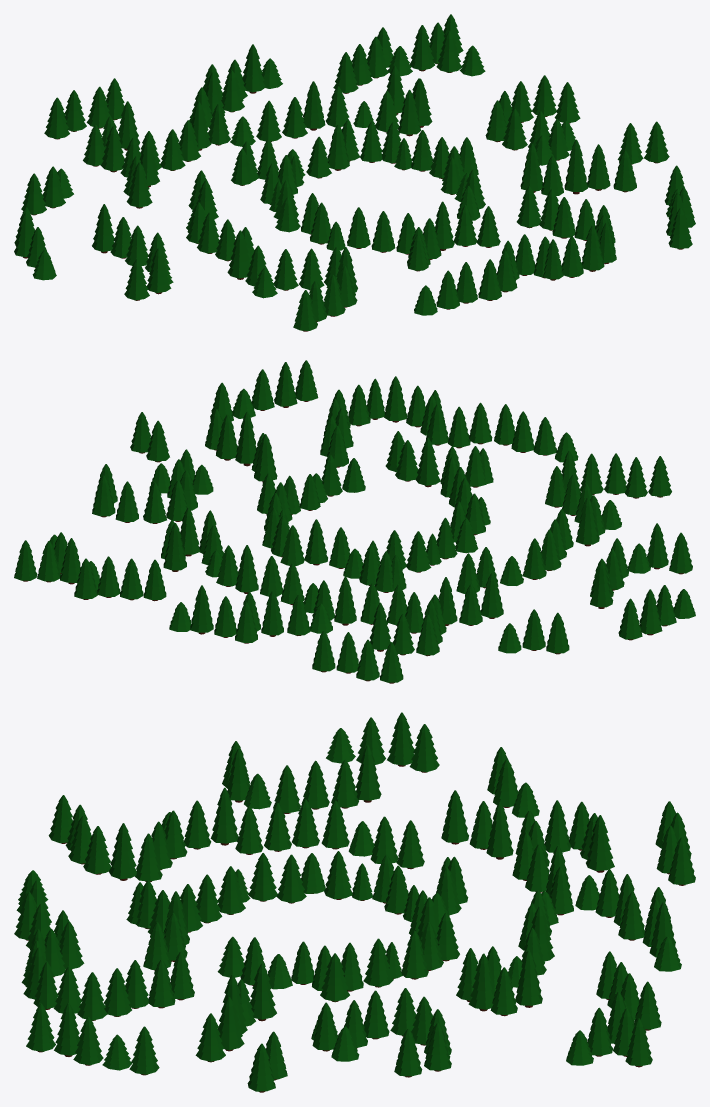
The model's file is UPDATED - Forest Trees.FBX.
3 renders of one model, top to bottom at view 1: azimuth 30°, elevation 25°; view 2: azimuth 150°, elevation 25°; view 3: azimuth 270°, elevation 25°, orthographic. The views are drawn at different scales.
Parts seen in each view (by area): view 1: Pine Tree.138, Pine Tree.032, Pine Tree.006, Pine Tree.056, Pine Tree.109, Pine Tree.119, Pine Tree.014, Pine Tree.020, Pine Tree.136, Pine Tree.139, Pine Tree.004, Pine Tree.151 (+79 smaller); view 2: Pine Tree.138, Pine Tree.041, Pine Tree.032, Pine Tree.006, Pine Tree.114, Pine Tree.109, Pine Tree.014, Pine Tree.101, Pine Tree.056, Pine Tree.040, Pine Tree.012, Pine Tree.151 (+77 smaller); view 3: Pine Tree.070, Pine Tree.023, Pine Tree.114, Pine Tree.006, Pine Tree.136, Pine Tree.115, Pine Tree.024, Pine Tree.012, Pine Tree.056, Pine Tree.014, Pine Tree.139, Pine Tree.148 (+94 smaller).
Part boxes in pixels (left/top/right/bottom): Pine Tree.138: left=564, top=139, right=587, bottom=194; Pine Tree.032: left=242, top=44, right=265, bottom=93; Pine Tree.006: left=227, top=230, right=250, bottom=279; Pine Tree.056: left=126, top=162, right=152, bottom=208; Pine Tree.109: left=303, top=81, right=325, bottom=130; Pine Tree.119: left=409, top=25, right=434, bottom=71; Pine Tree.014: left=92, top=204, right=114, bottom=253; Pine Tree.020: left=101, top=126, right=124, bottom=172; Pine Tree.136: left=520, top=143, right=542, bottom=192; Pine Tree.139: left=587, top=144, right=610, bottom=190; Pine Tree.004: left=146, top=247, right=171, bottom=294; Pine Tree.151: left=581, top=225, right=604, bottom=271; Pine Tree.138: left=235, top=411, right=256, bottom=466; Pine Tree.041: left=415, top=438, right=440, bottom=487; Pine Tree.032: left=190, top=585, right=213, bottom=634; Pine Tree.006: left=576, top=497, right=599, bottom=546; Pine Tree.114: left=163, top=523, right=186, bottom=571; Pine Tree.109: left=235, top=545, right=258, bottom=593; Pine Tree.014: left=590, top=560, right=613, bottom=608; Pine Tree.101: left=334, top=576, right=356, bottom=625; Pine Tree.056: left=480, top=573, right=503, bottom=618; Pine Tree.040: left=304, top=519, right=327, bottom=565; Pine Tree.012: left=639, top=589, right=662, bottom=635; Pine Tree.151: left=384, top=376, right=407, bottom=422; Pine Tree.070: left=108, top=823, right=136, bottom=880; Pine Tree.023: left=586, top=815, right=614, bottom=872; Pine Tree.114: left=515, top=950, right=542, bottom=1007; Pine Tree.006: left=210, top=787, right=238, bottom=845; Pine Tree.136: left=250, top=963, right=276, bottom=1021; Pine Tree.115: left=468, top=953, right=495, bottom=1011; Pine Tree.024: left=486, top=802, right=513, bottom=859; Pine Tree.012: left=387, top=712, right=414, bottom=766; Pine Tree.056: left=441, top=790, right=468, bottom=844; Pine Tree.014: left=355, top=745, right=381, bottom=802; Pine Tree.139: left=218, top=997, right=244, bottom=1051; Pine Tree.148: left=54, top=1003, right=80, bottom=1056.
Size of the model in its own units: 1770 by 152 by 1491.
